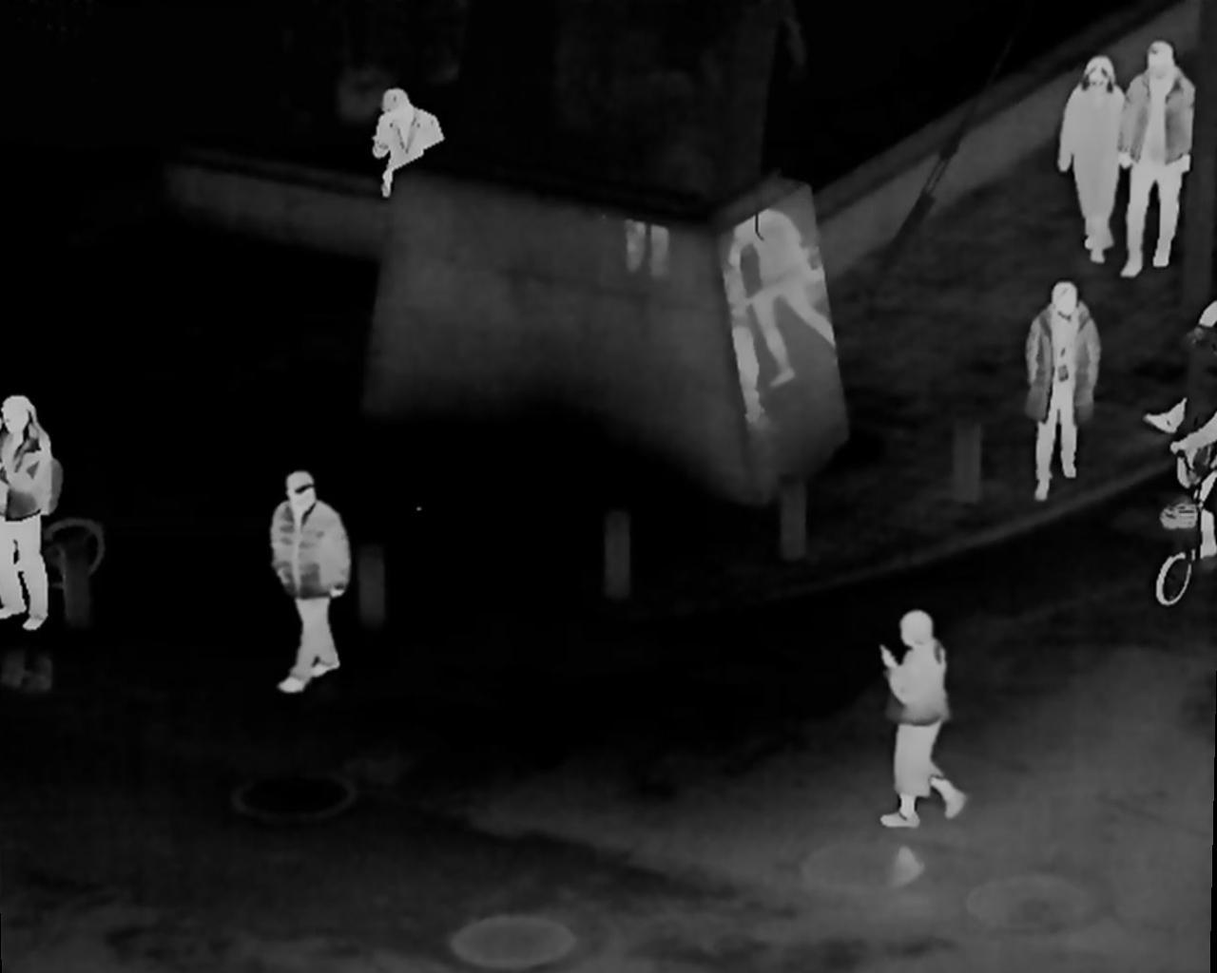person: (873, 617, 967, 842), (1042, 58, 1139, 266), (1119, 40, 1201, 286), (266, 465, 350, 697), (1028, 288, 1105, 509), (368, 94, 446, 202)
